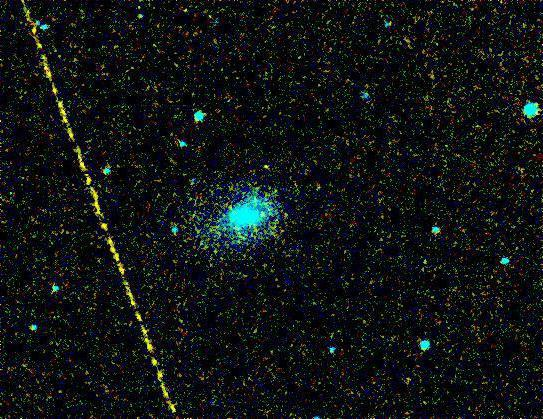star: (249, 153, 279, 183)
